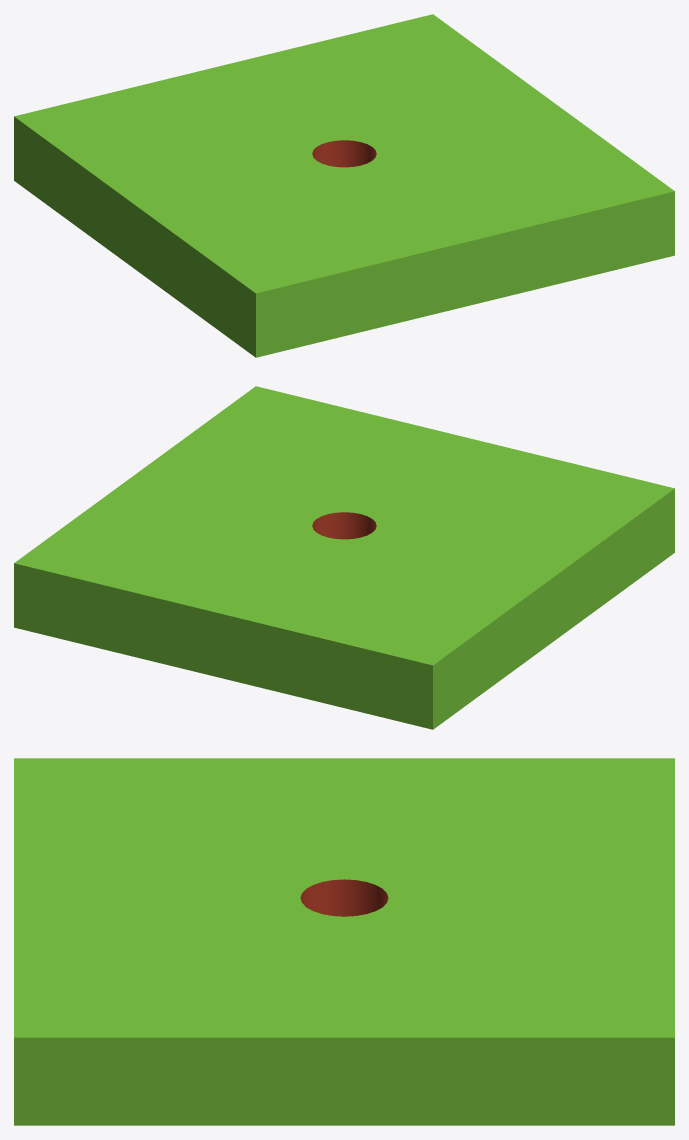
Rendered from Hole_Open.FBX.
3 views of the same model, one above another, from view 1: azimuth 30°, elevation 25°; view 2: azimuth 150°, elevation 25°; view 3: azimuth 270°, elevation 25° (orthographic). The views are drawn at different scales.
Parts seen in each view (by area): view 1: Hole_open_01; view 2: Hole_open_01; view 3: Hole_open_01.
Boxes of the visible parts, x1,y1,x2,y2 form: Hole_open_01: [14, 14, 674, 357]; Hole_open_01: [14, 386, 674, 729]; Hole_open_01: [14, 758, 674, 1125].
Size of the model in its own units: 0.9999 by 0.9999 by 0.1467.
